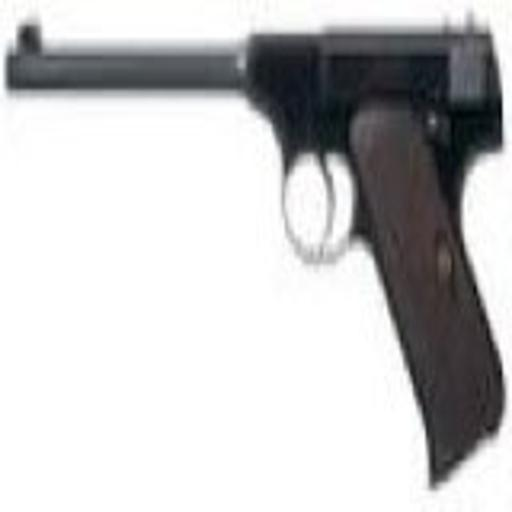Handgun: (5, 20, 511, 498)
